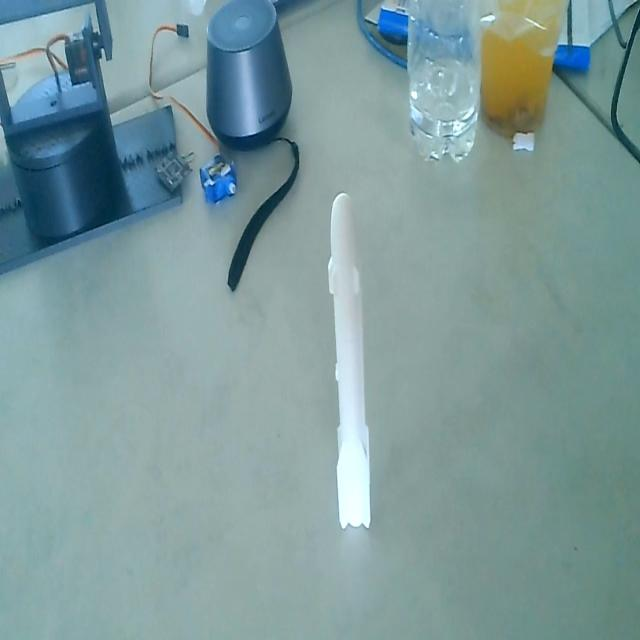Rocket: (328, 186, 374, 543)
